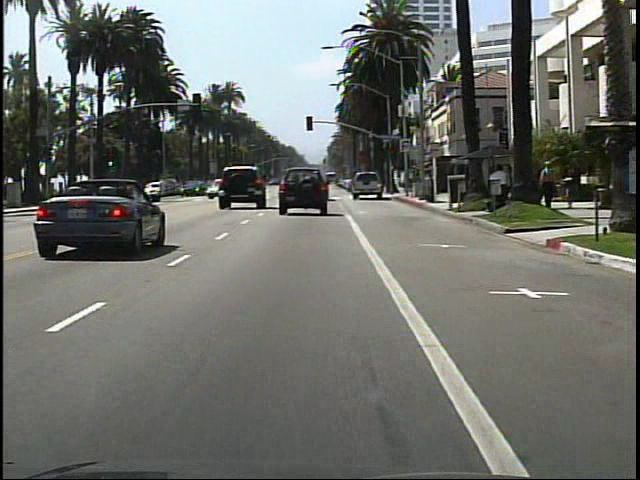person: (487, 162, 512, 212), (536, 158, 558, 212)
